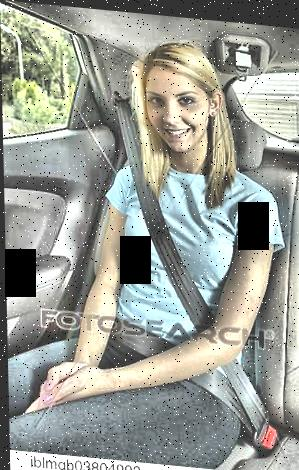seatbelt: (104, 89, 275, 448)
